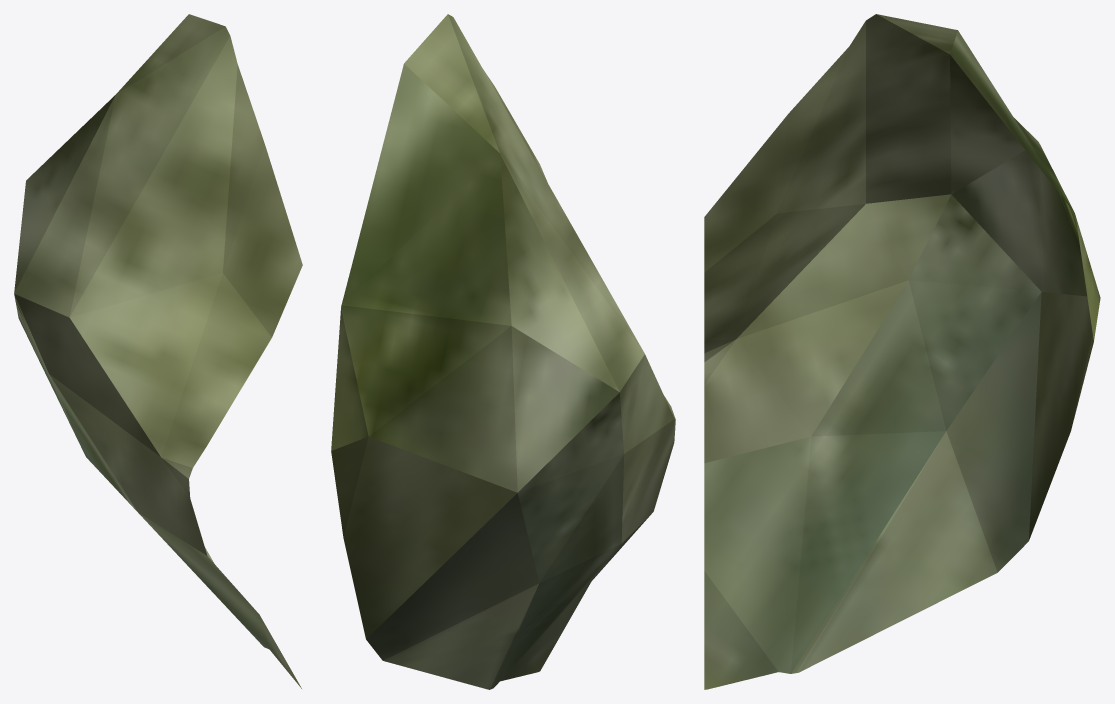
3 views of the same model, side by side, from view 1: azimuth 30°, elevation 25°; view 2: azimuth 150°, elevation 25°; view 3: azimuth 270°, elevation 25° (orthographic). The views are drawn at different scales.
Size of the model in its own units: 0.2028 by 0.6617 by 0.3514.
1 material, 1 textured.
